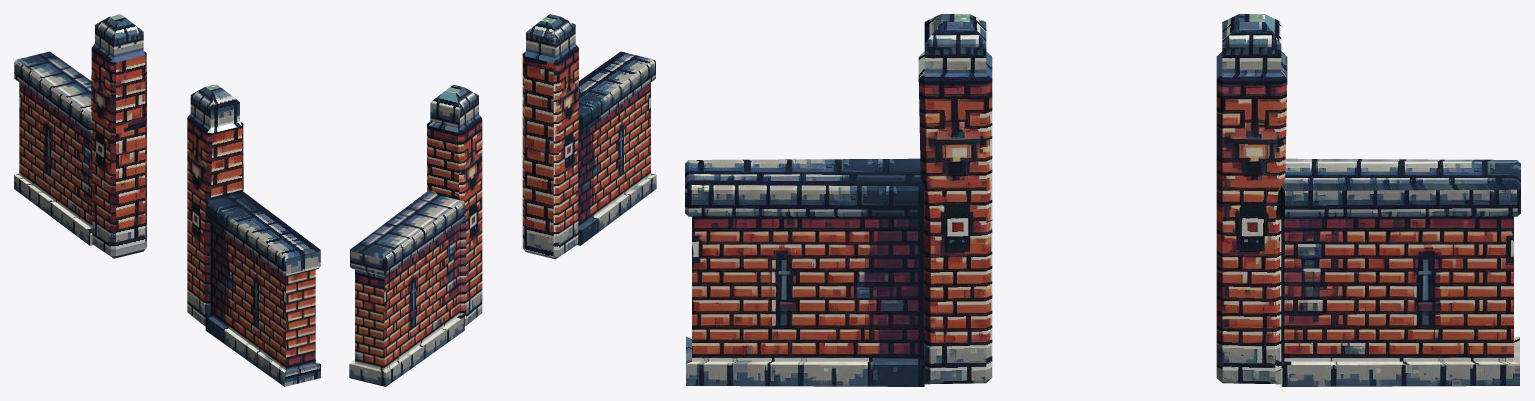
The model's file is gate.glb.
3 renders of one model, left to right at view 1: azimuth 30°, elevation 25°; view 2: azimuth 150°, elevation 25°; view 3: azimuth 270°, elevation 25°, orthographic. The views are drawn at different scales.
Visible parts, largest first — view 1: OIG4 (17); view 2: OIG4 (17); view 3: OIG4 (17).
Boxes of the visible parts, <box> form: OIG4 (17): <box>14,14,320,386</box>; OIG4 (17): <box>349,14,656,386</box>; OIG4 (17): <box>685,14,1520,386</box>.
Bounding box in the file's own units: 0.0879 × 0.4755 × 1.02.
Materials: 1 (1 with a texture image).
